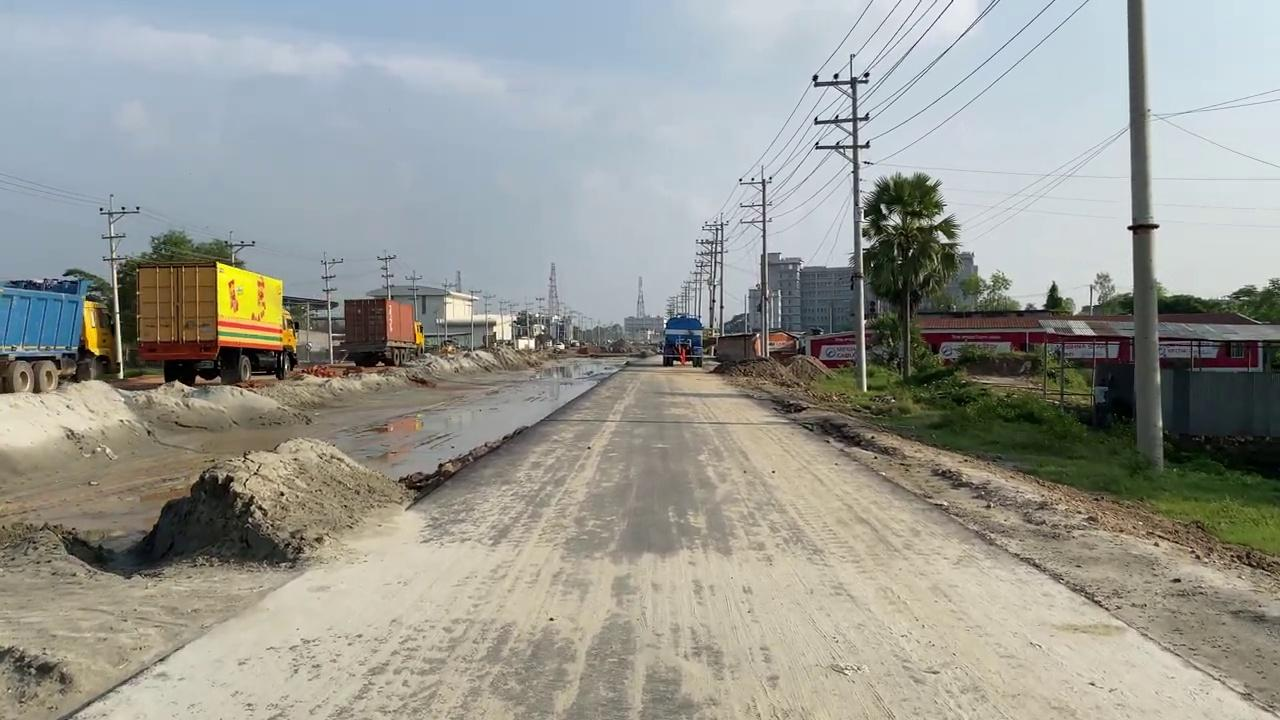Garbage: (193, 438, 394, 557)
Muddy road: (0, 349, 430, 720)
Pole: (1125, 0, 1164, 473)
Rickshaw: (559, 385, 1139, 720)
Sidewalk: (350, 383, 591, 465)
Traffic-sign: (855, 169, 962, 380)
Tree: (134, 259, 299, 385), (0, 275, 119, 393), (336, 297, 424, 367), (76, 299, 119, 381), (512, 310, 564, 351), (281, 308, 299, 373), (413, 319, 425, 355)
